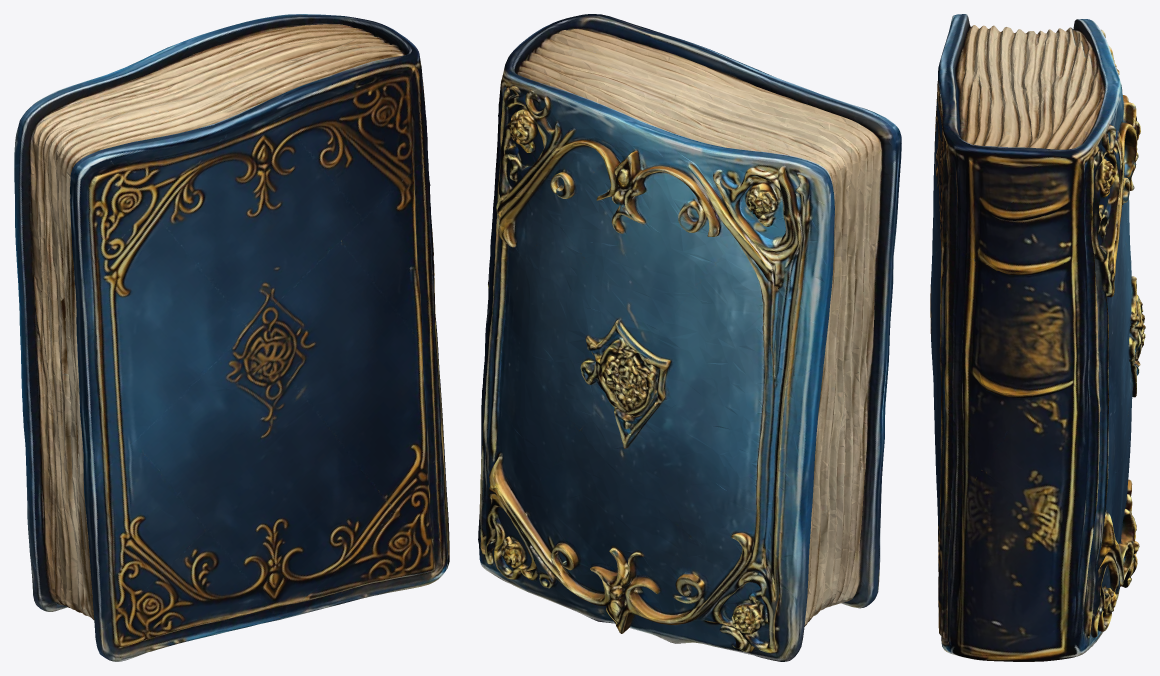
File: tome-others.glb
3 renders of one model, left to right at view 1: azimuth 30°, elevation 25°; view 2: azimuth 150°, elevation 25°; view 3: azimuth 270°, elevation 25°, orthographic. The views are drawn at different scales.
Visible parts, largest first — view 1: tmpymj8h8ou.obj; view 2: tmpymj8h8ou.obj; view 3: tmpymj8h8ou.obj.
Part boxes in pixels (bbox=[...]): tmpymj8h8ou.obj: bbox=[14, 14, 449, 661]; tmpymj8h8ou.obj: bbox=[478, 14, 901, 661]; tmpymj8h8ou.obj: bbox=[930, 14, 1145, 661].
Bounding box in the file's own units: 1.26 × 1.69 × 0.633.
1 material, 1 textured.
